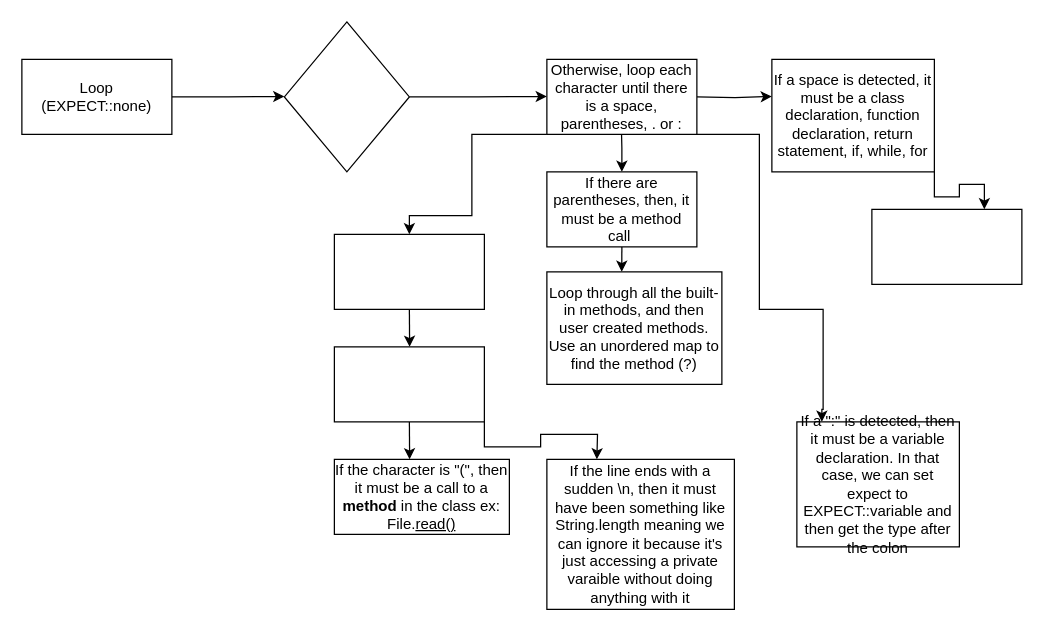
The diagram is 1044 pixels wide and 631 high, and some of its shapes have lost their labels. Here are the shapes that lost their labels. From the top down, the box of each, then its label:
(283, 21, 409, 172): Check for comment (first character is "/")
(871, 208, 1022, 284): Check if currWord is any of the above strings
(333, 233, 484, 309): If there is a dot, then it's a class's method being called
(333, 346, 484, 422): Loop through each character until you reach parentheses
